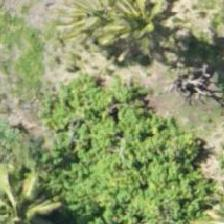coconut_tree: (0, 168, 65, 223)
